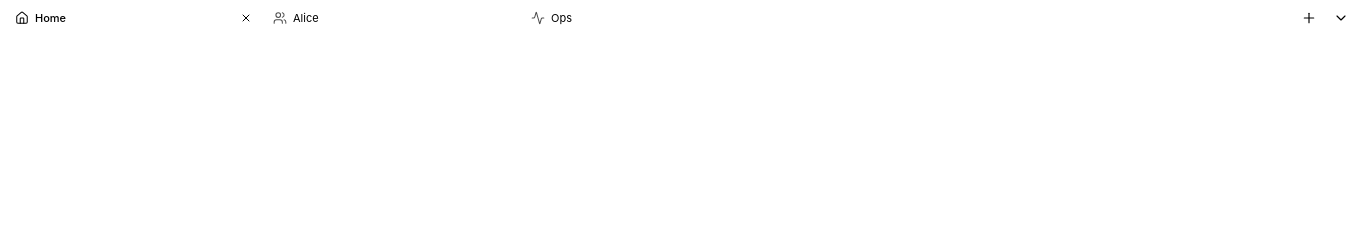
TabStrip › the overflow popover supports type-ahead filtering
Click the button named "Show all tabs".
click(1341, 18)  # box [1327,4,1355,32]
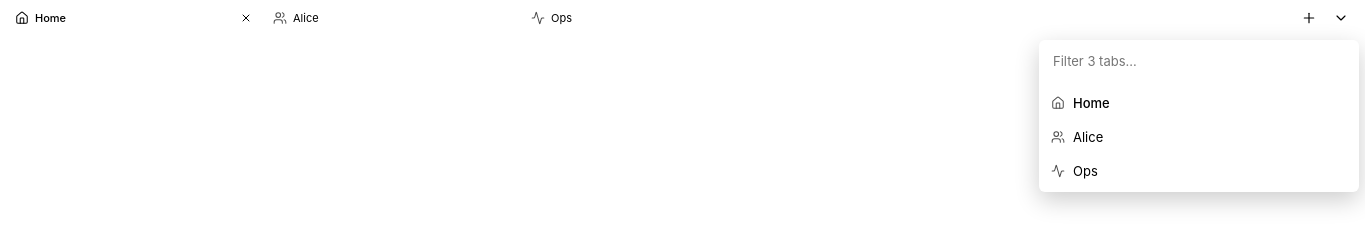
Type "ali" into the search field named "Filter tabs".
click(1199, 61); type("ali")  # box [1045,46,1353,76]
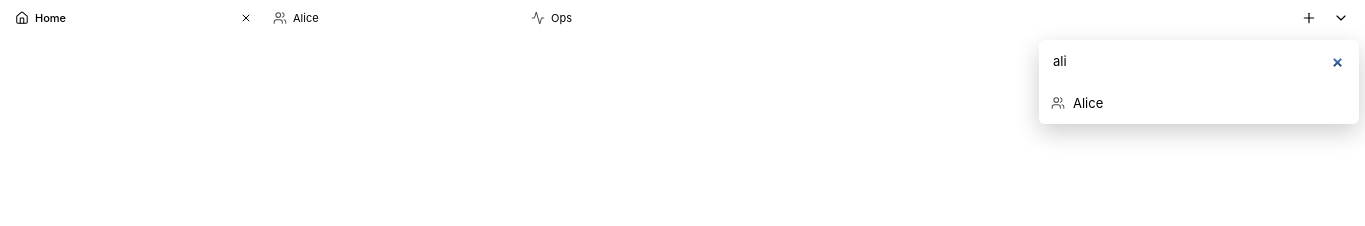
Now the menu item reads "Alice", box [1043,86,1355,120]
Now the number of menu items is 1, box [1043,86,1355,120]
